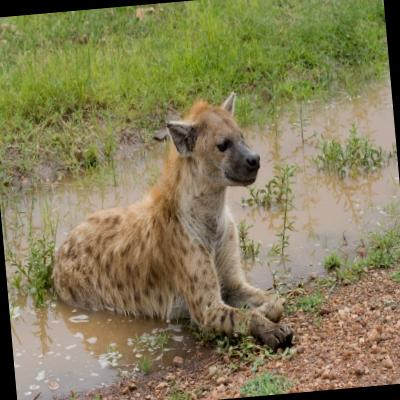hyenas: (27, 75, 320, 396)
